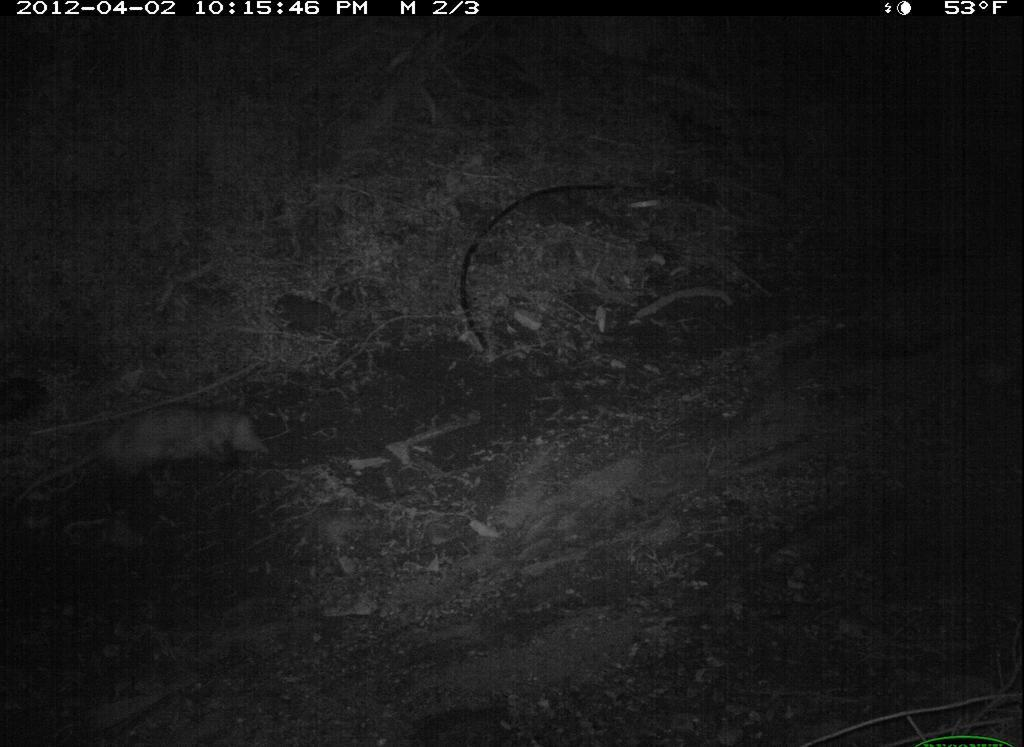opossum: (44, 395, 287, 515)
